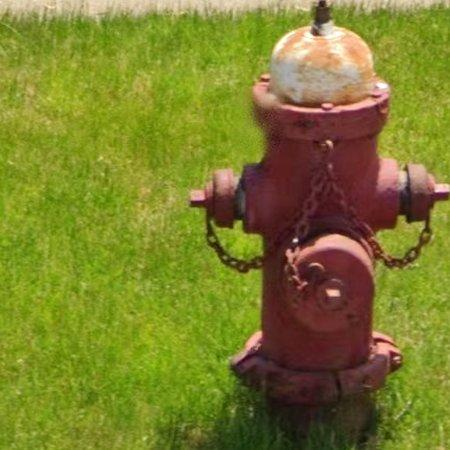a fire hydrant: (190, 0, 450, 406)
